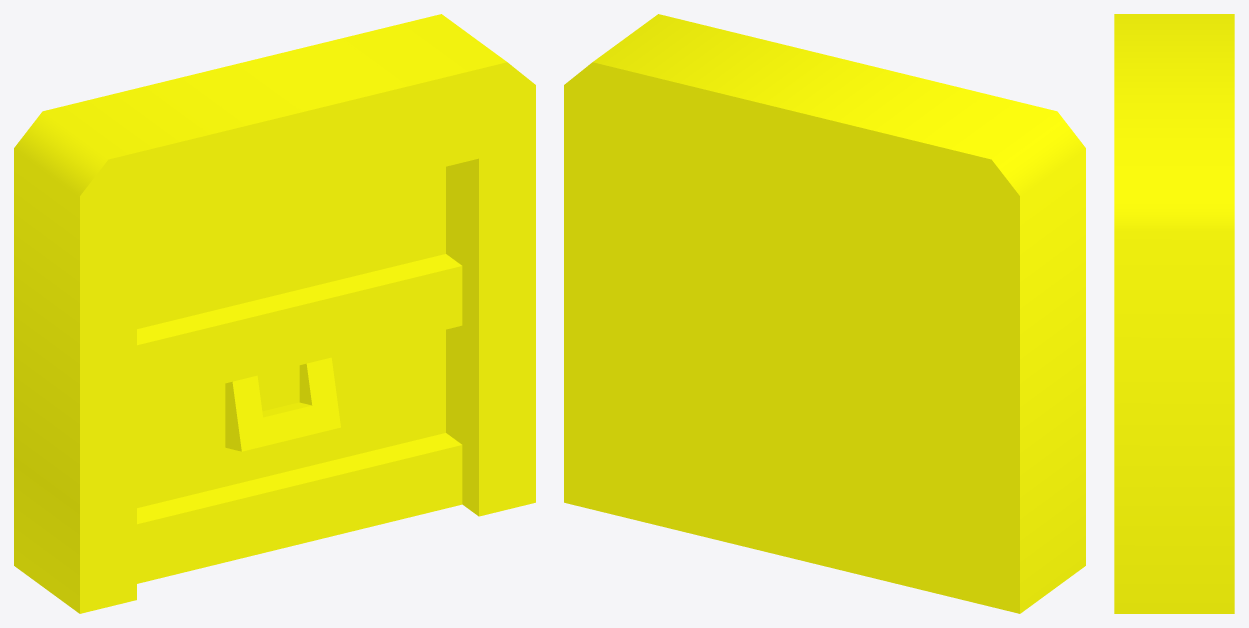
File: 围墙门楼_门楼_城门.glb
The picture shows the model from 3 angles, left to right: view 1: azimuth 30°, elevation 25°; view 2: azimuth 150°, elevation 25°; view 3: azimuth 270°, elevation 25°; orthographic projection. The views are drawn at different scales.
Visible parts, largest first — view 1: door; view 2: door; view 3: door.
Boxes of the visible parts, x1,y1,x2,y2 form: door: (14,14,535,613); door: (564,14,1085,613); door: (1114,14,1234,613).
Size of the model in its own units: 0.8 by 0.75 by 0.2.
Materials: 1 (1 with a texture image).
